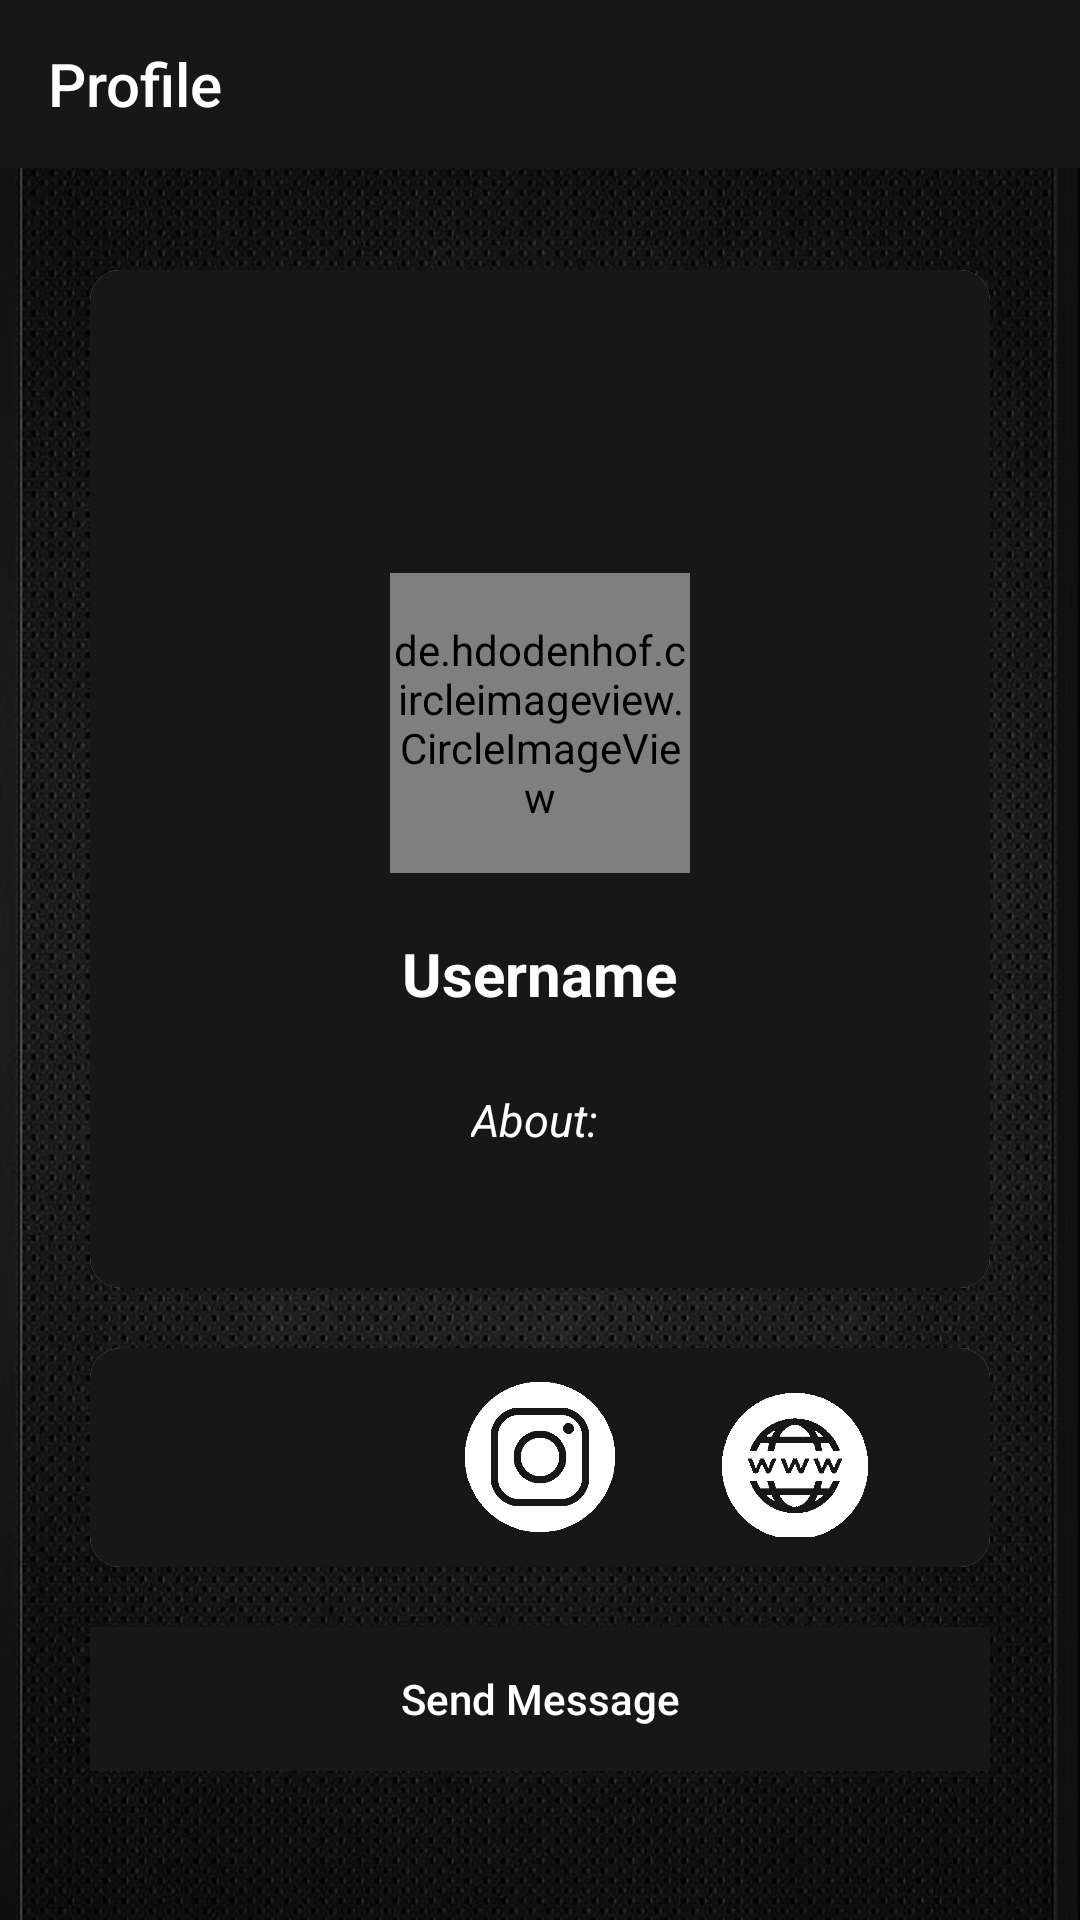

Named icons in this screenshot (1080 x 1920) and their bounding boxes, {"x1": x1, "y1": y1, "x2": x2, "y2": y2}:
website: {"x1": 722, "y1": 1393, "x2": 868, "y2": 1537}
